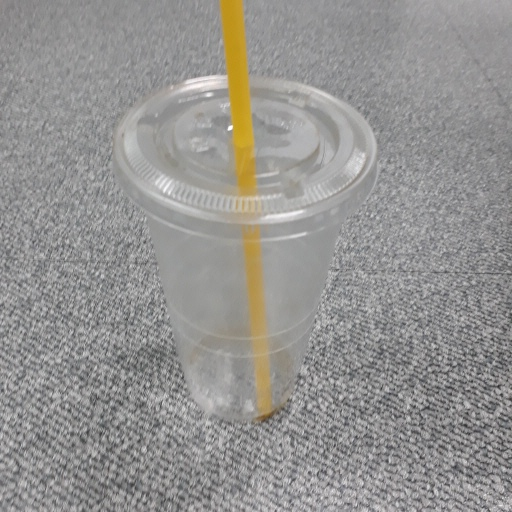Plastic_2: (110, 2, 379, 421)
